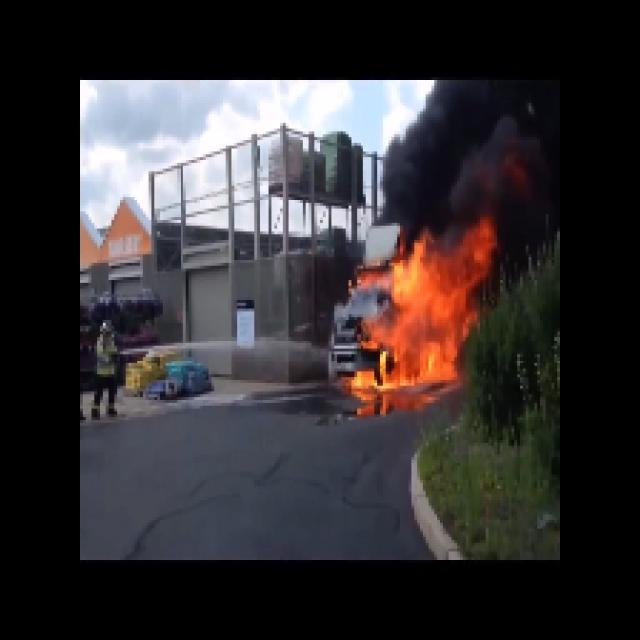fire: (381, 248, 480, 377)
smoke: (428, 79, 552, 230)
